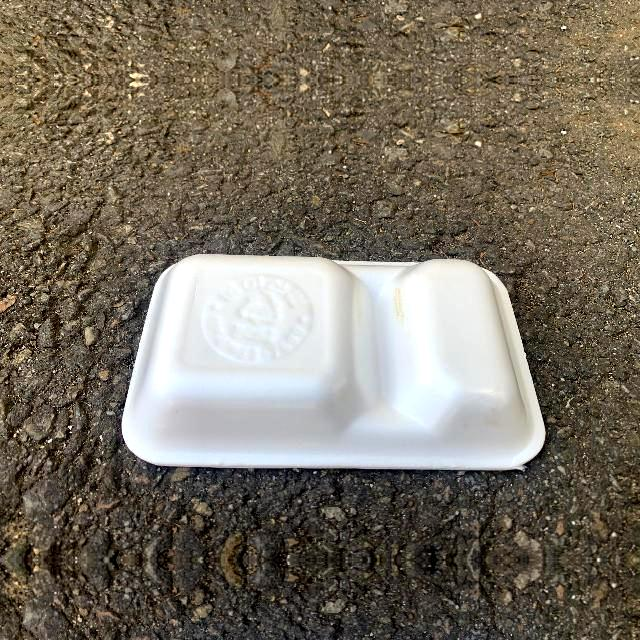Styrofoam: (120, 250, 546, 472), (121, 254, 546, 470)
